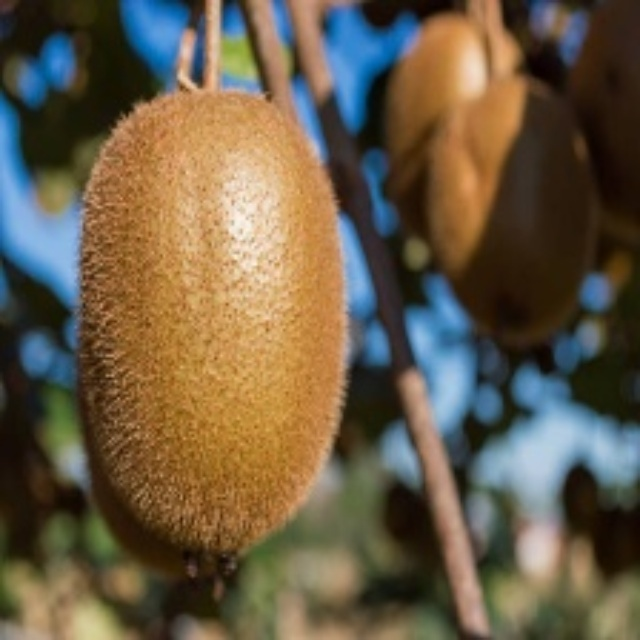kiwi: (70, 83, 357, 578)
